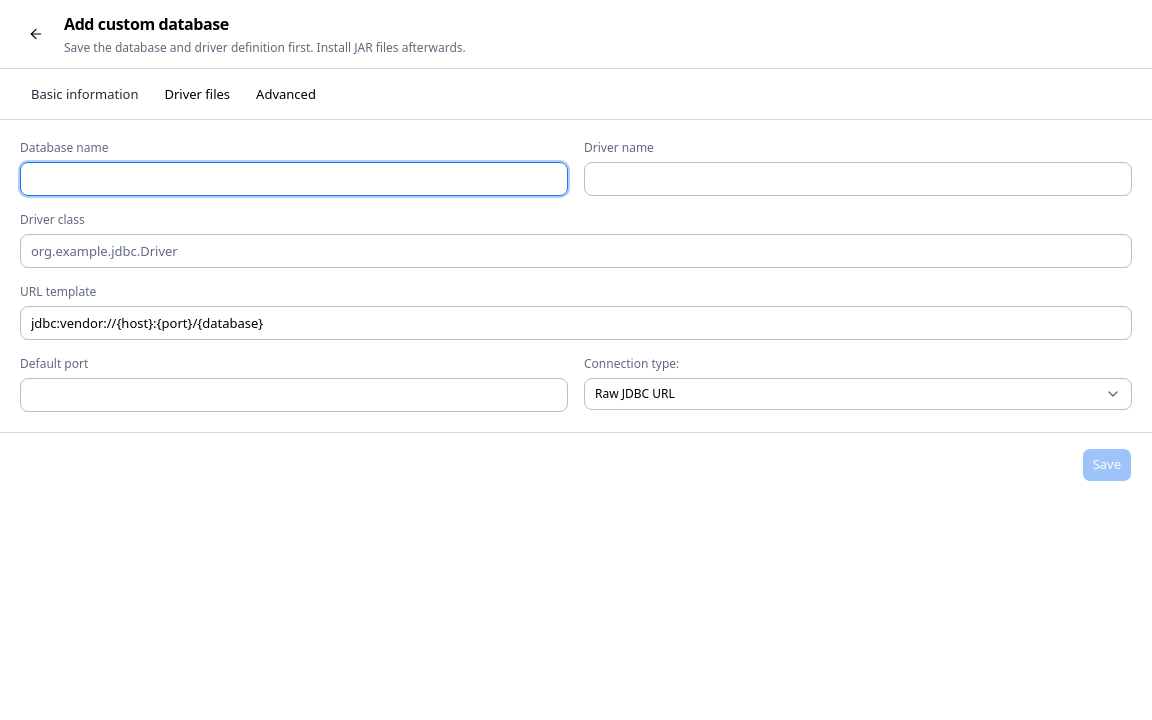
Test: returns to the manager after saving a new product and reopening its editor
Step 1. Type "New product" into the field labelled "Database name" → (294, 179), box [20,162,568,196]
Step 2. Type "New driver" into the field labelled "Driver name" → (858, 179), box [584,162,1132,196]
Step 3. Type "example.Driver" into the field labelled "Driver class" → (576, 251), box [20,234,1132,268]
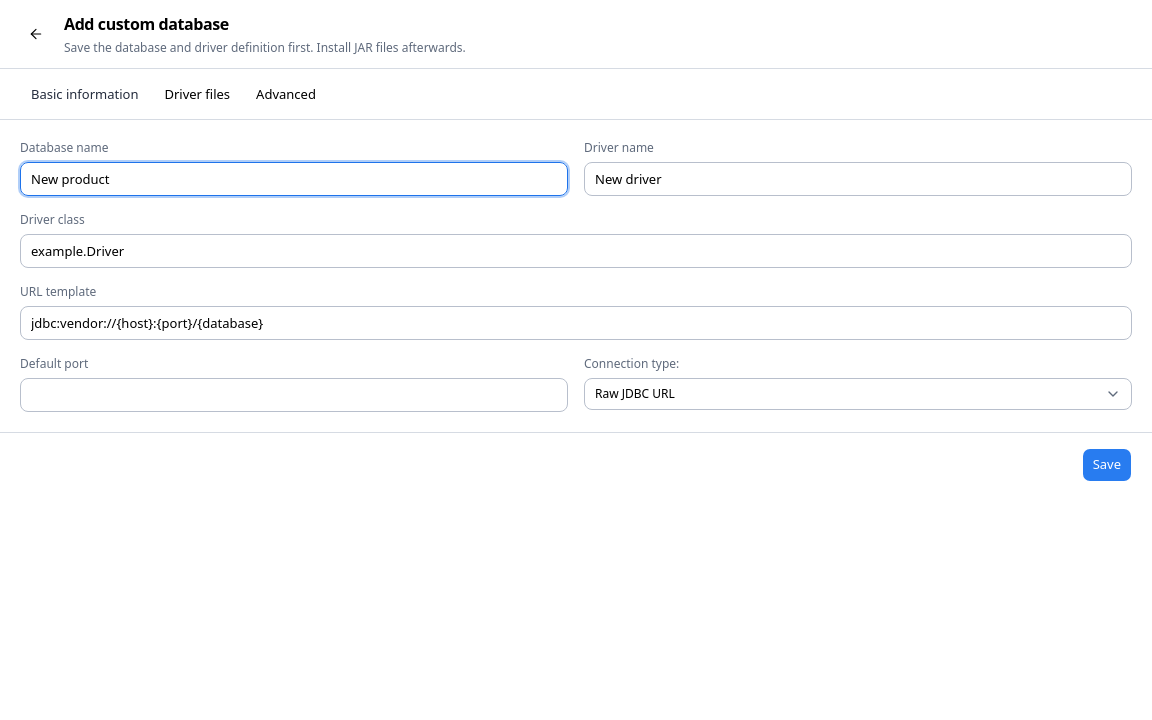
Step 4. Click the button "Save" → (1107, 464), box [1082,448,1132,482]
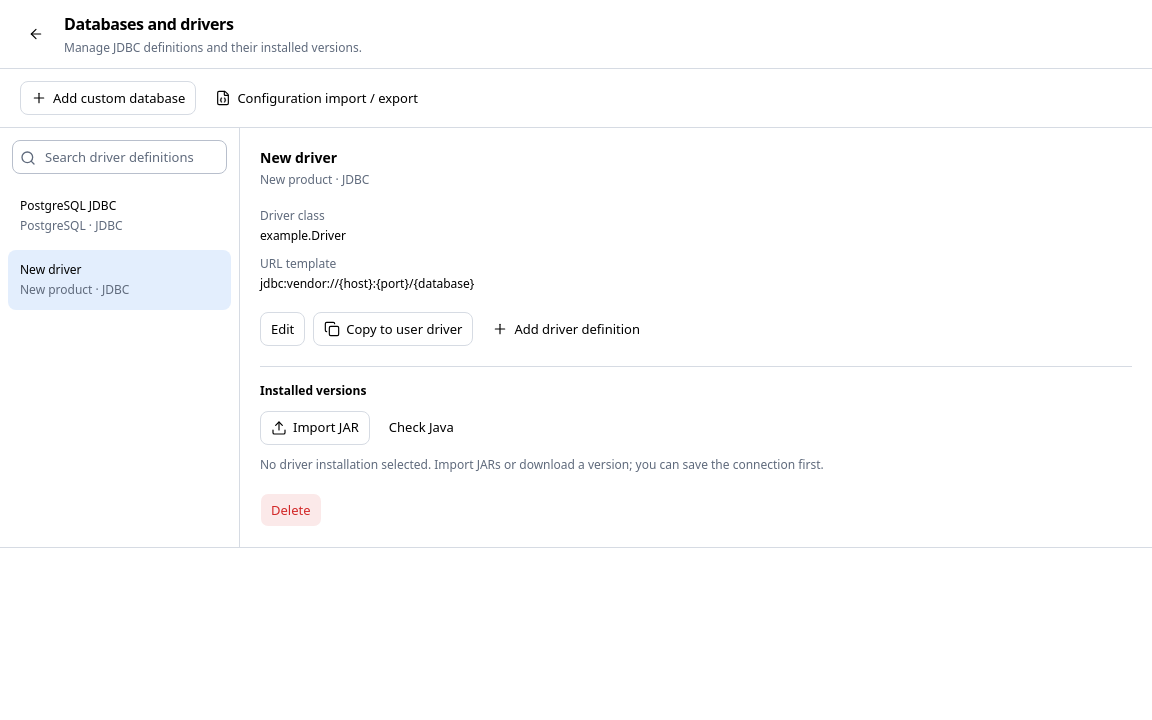
Now the heading "Databases and drivers" is shown, box [64,13,234,35]
Step 5. Click the button "Edit" → (283, 329), box [260,312,305,346]
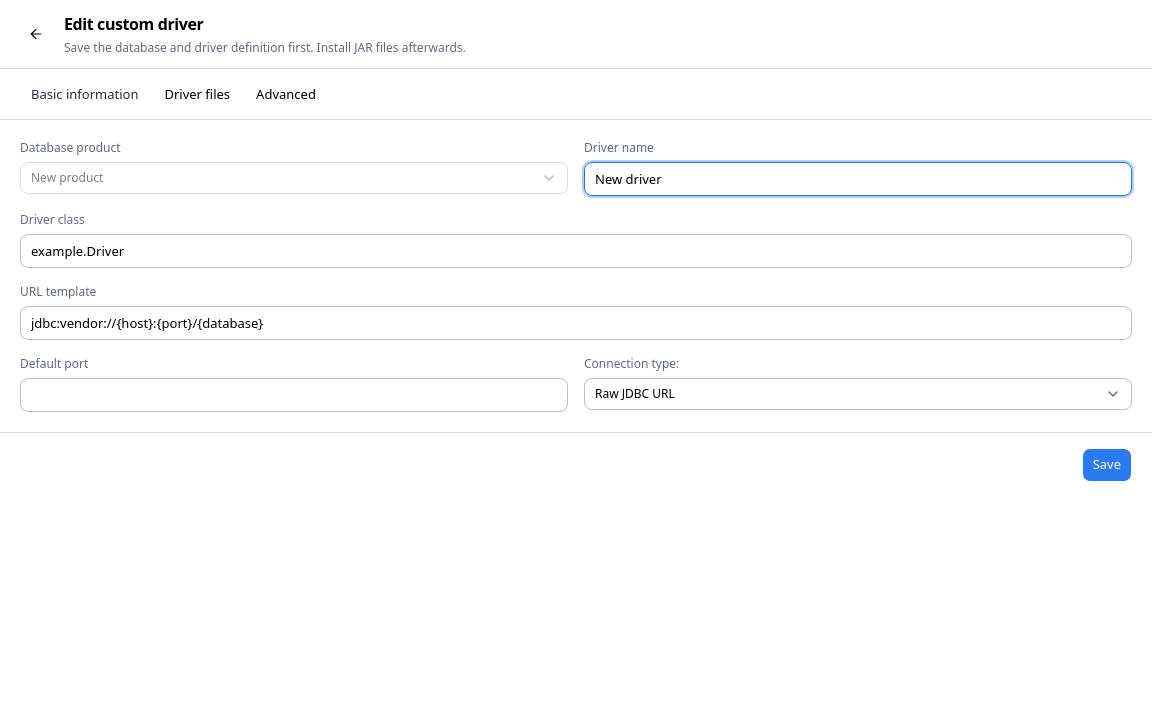
Step 6. Replace the text in the field labelled "Driver name" with "Unsaved driver" → (858, 179), box [584,162,1132,196]
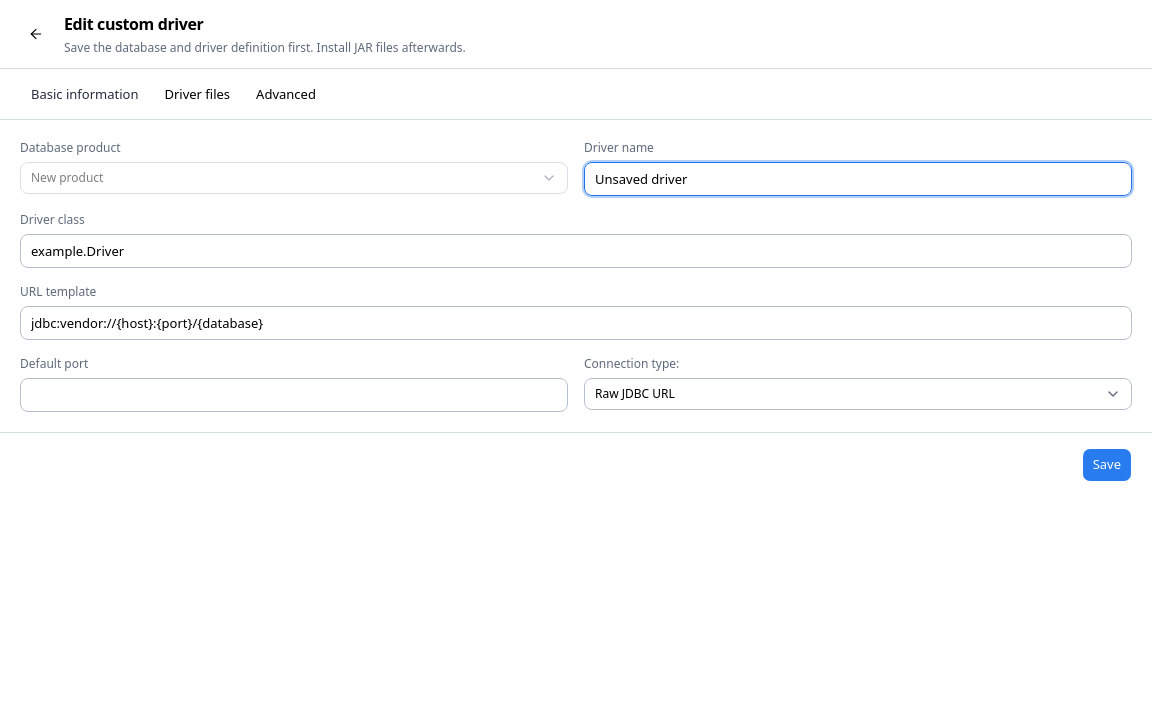
Step 7. Click the button named "Back" → (36, 34), box [20,18,52,50]
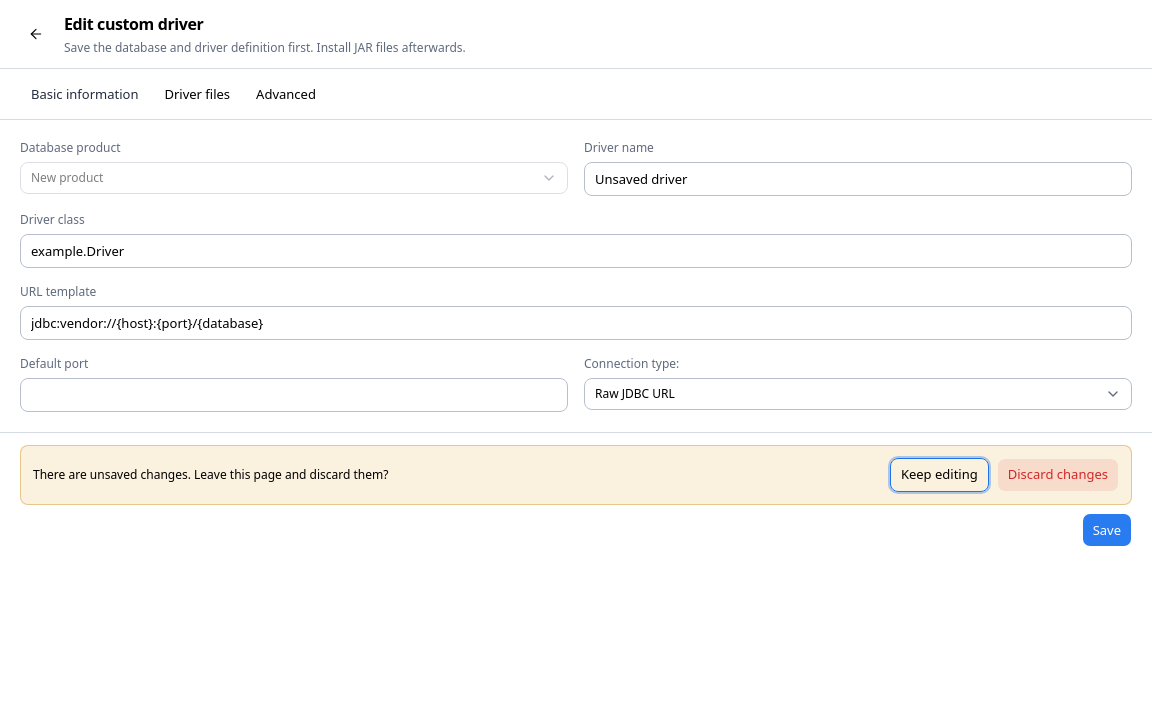
Step 8. Click the button "Discard changes" → (1058, 475), box [997,458,1119,492]
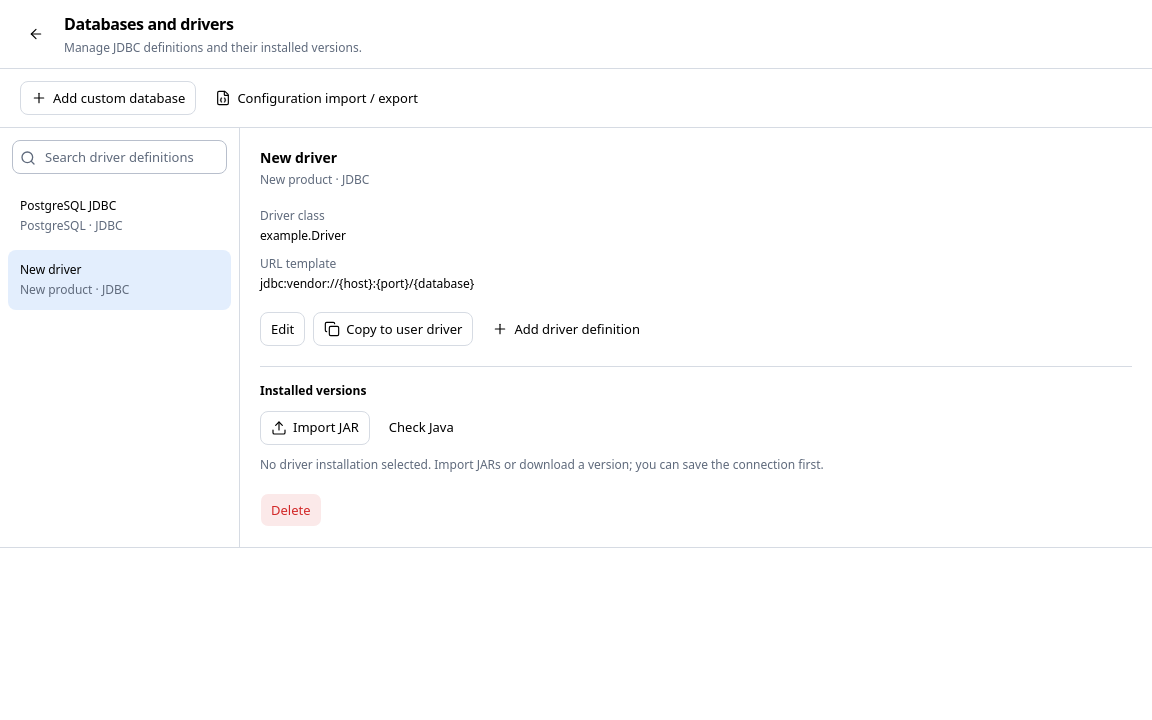
Now the heading "Databases and drivers" is shown, box [64,13,234,35]
